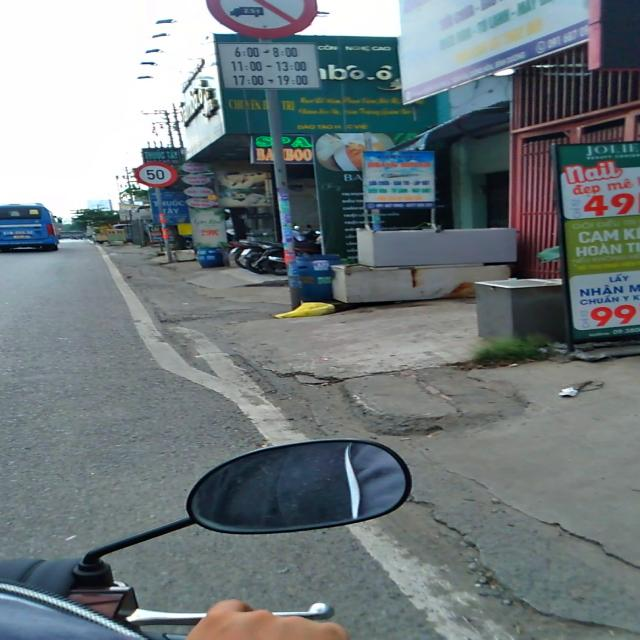Cam con lai: (202, 0, 319, 42)
Toc do toi da: (134, 161, 178, 188)
